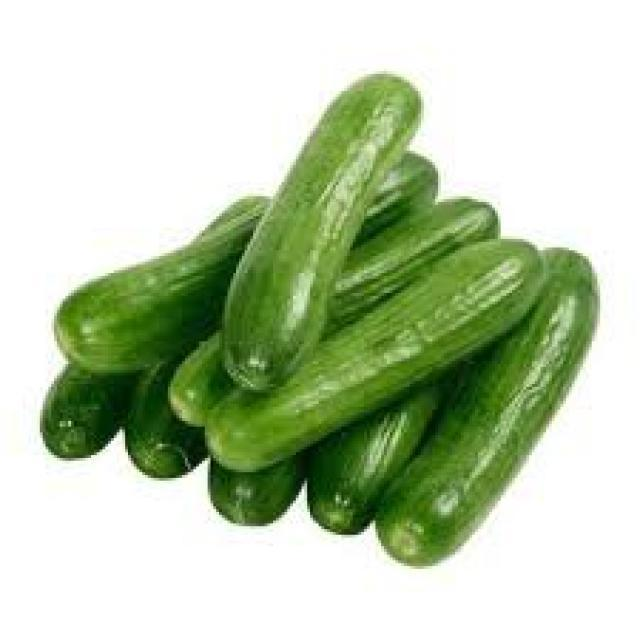cucumber: (39, 72, 598, 567)
